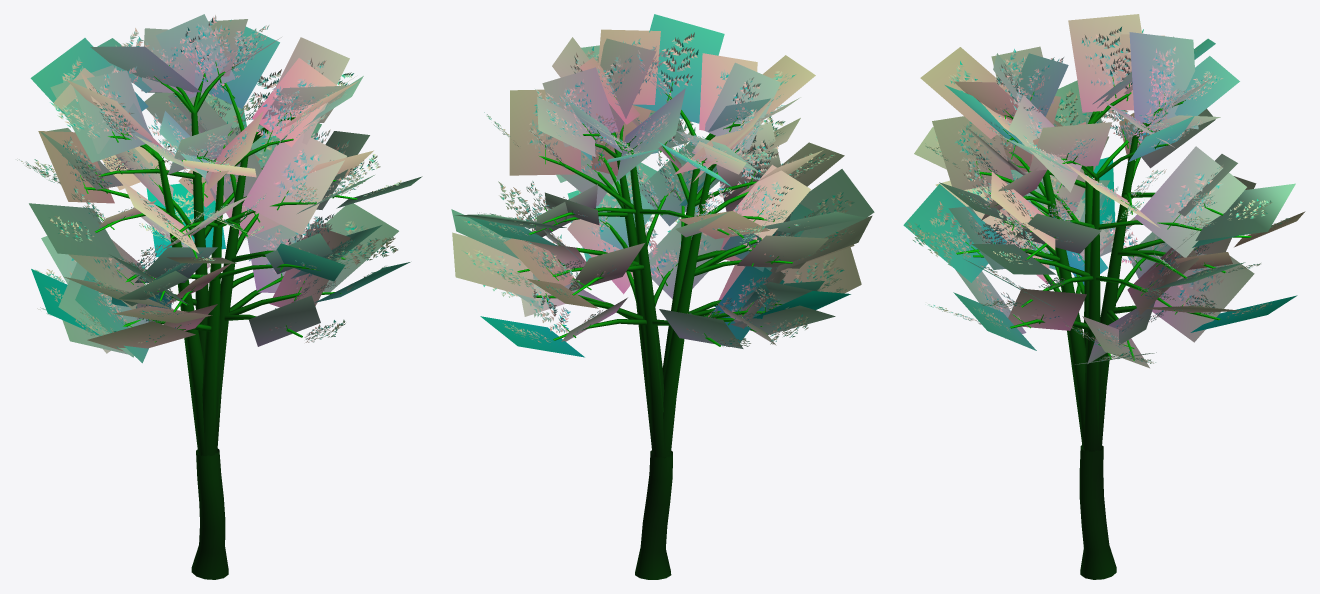
File: shade_1.glb
3 views of the same model, side by side, from view 1: azimuth 30°, elevation 25°; view 2: azimuth 150°, elevation 25°; view 3: azimuth 270°, elevation 25° (orthographic). The views are drawn at different scales.
Parts seen in each view (by area): view 1: mid, near; view 2: mid, near; view 3: mid, near.
Part boxes in pixels (bbox=[...]): mid: bbox=[29, 14, 422, 456]; near: bbox=[17, 15, 402, 579]; mid: bbox=[451, 14, 874, 458]; near: bbox=[461, 32, 854, 579]; mid: bbox=[903, 14, 1305, 451]; near: bbox=[906, 27, 1290, 579].
Bounding box in the file's own units: 9.29 × 12.66 × 8.93.
